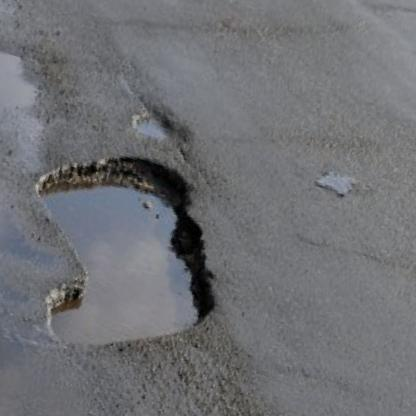pothole: (0, 130, 252, 387), (129, 105, 179, 144)
